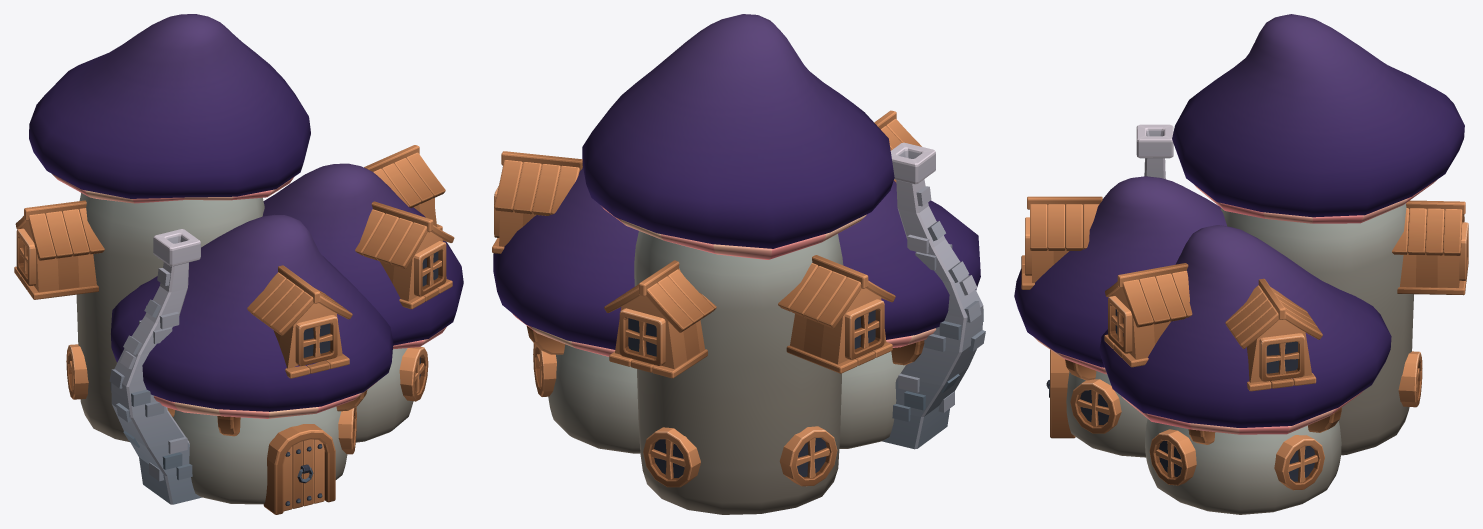
The model's file is mt_house14.fbx.
3 views of the same model, side by side, from view 1: azimuth 30°, elevation 25°; view 2: azimuth 150°, elevation 25°; view 3: azimuth 270°, elevation 25° (orthographic). The views are drawn at different scales.
Visible parts, largest first — view 1: h14; view 2: h14; view 3: h14.
Boxes of the visible parts, bbox=[...] form: h14: bbox=[14, 14, 463, 514]; h14: bbox=[492, 14, 985, 514]; h14: bbox=[1014, 14, 1468, 514].
Bounding box in the file's own units: 1041 × 1056 × 1068.
